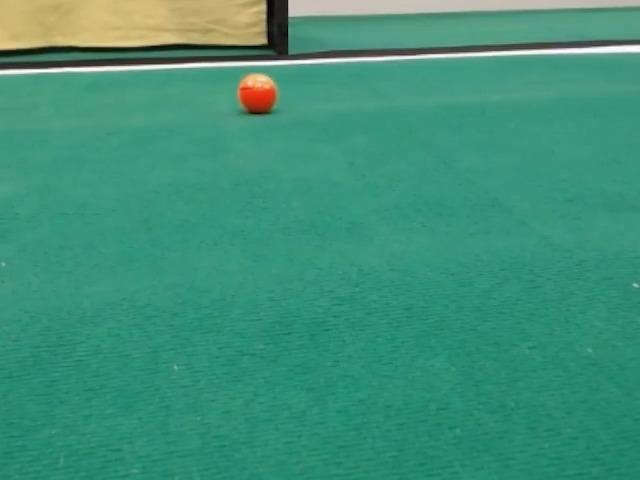Ball: (238, 73, 277, 113)
